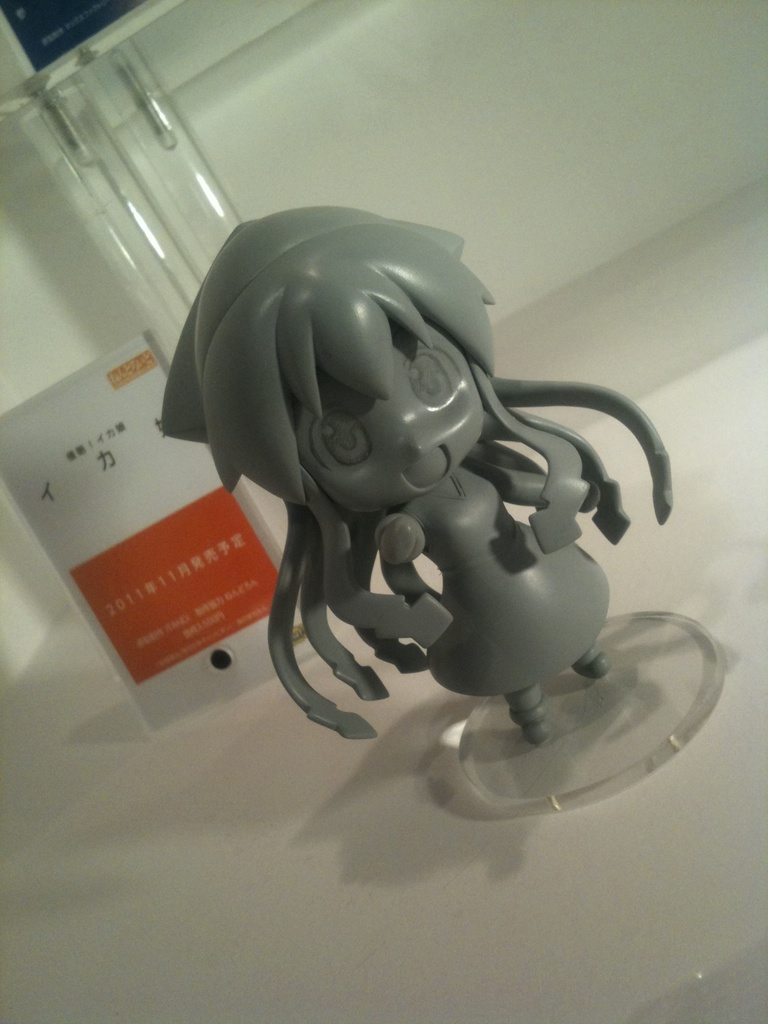Human-face: (294, 321, 481, 495)
